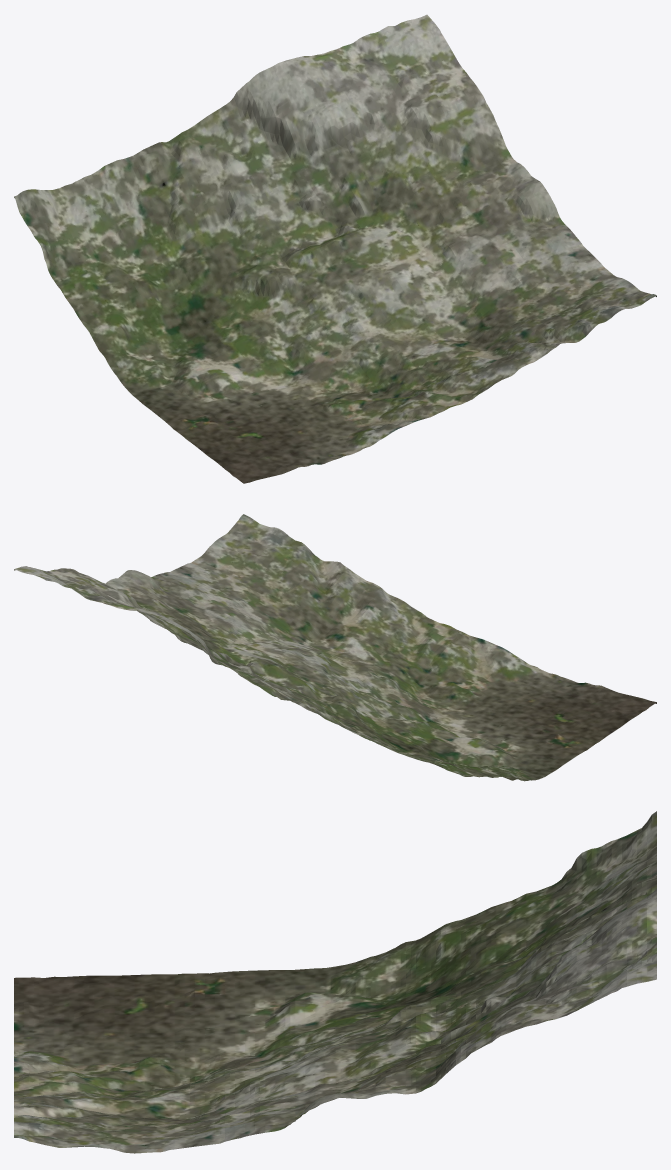
3 views of the same model, one above another, from view 1: azimuth 30°, elevation 25°; view 2: azimuth 150°, elevation 25°; view 3: azimuth 270°, elevation 25° (orthographic). The views are drawn at different scales.
Size of the model in its own units: 250 by 117 by 241.
1 material, 1 textured.
